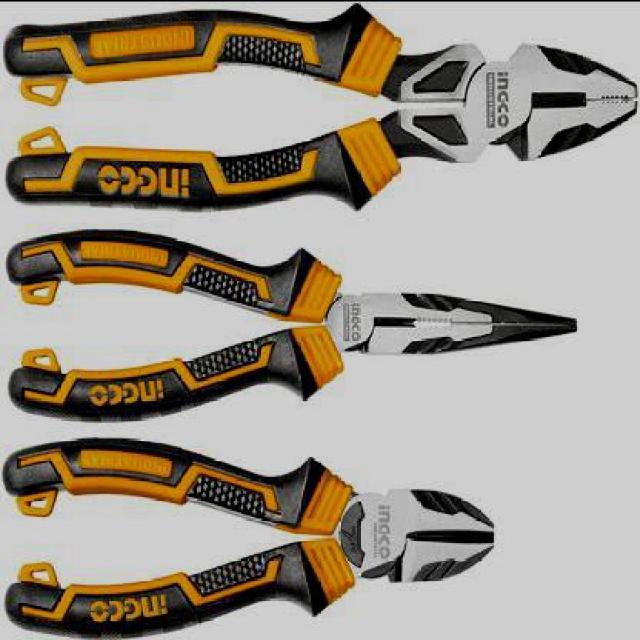pliers: (0, 436, 497, 638)
